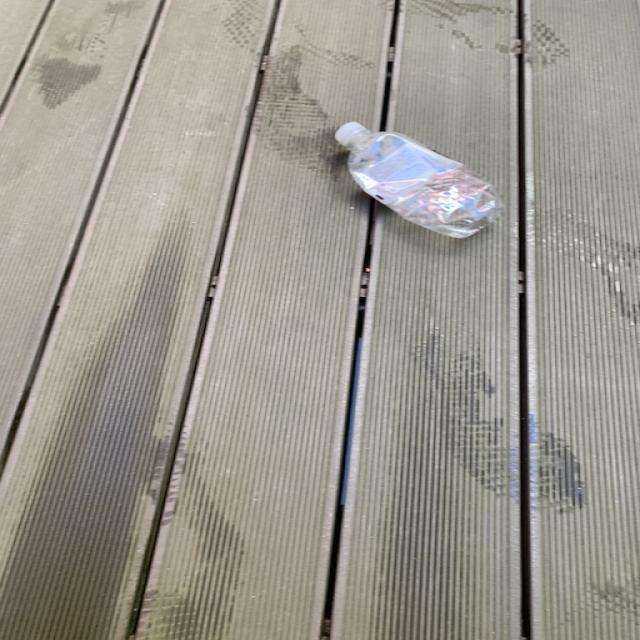litter: (332, 115, 508, 239)
